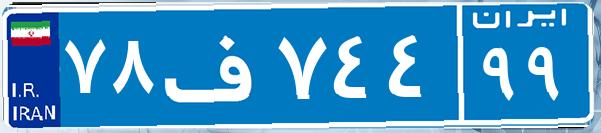4: (385, 28, 445, 110), (330, 28, 385, 110)
7: (273, 28, 330, 110), (57, 26, 110, 107)
8: (110, 28, 158, 105)
9: (475, 38, 525, 113), (525, 38, 570, 115)
ف: (158, 15, 273, 115)
